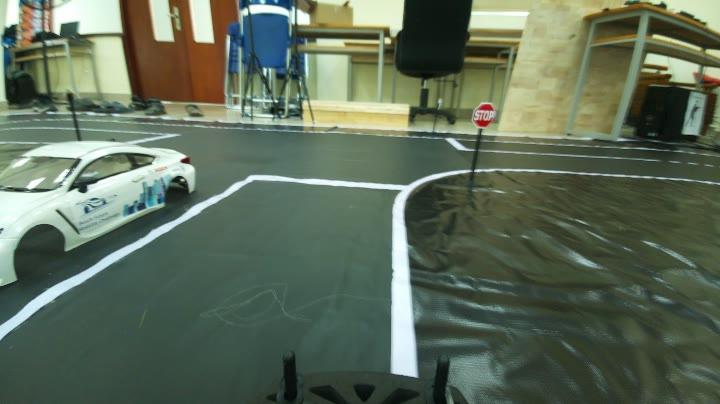car: (0, 102, 200, 286)
stop: (458, 92, 508, 134)
